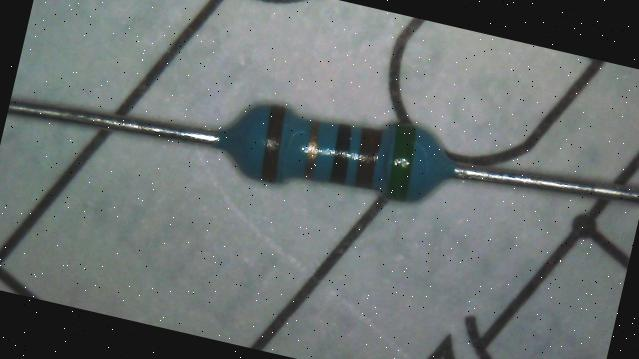black: (326, 123, 357, 184)
brown: (254, 103, 292, 184), (350, 125, 384, 189)
gold: (298, 119, 325, 179)
green: (380, 121, 423, 202)
resistor: (211, 74, 463, 230)
